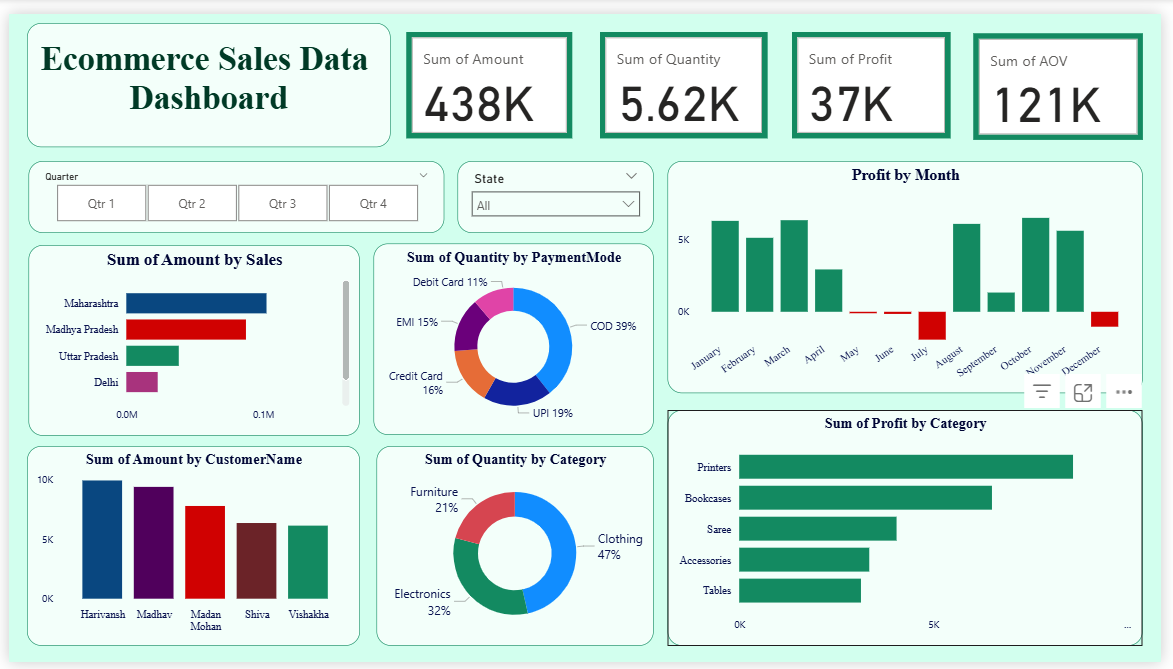

The dashboard page shown, as its layout file describes it:
{"tool":"powerbi","page":{"name":"Page 1","canvas":[1280,720],"ordinal":0},"visuals":[{"type":"textbox","box":[20,10,404,138],"z":0},{"type":"columnChart","title":"Profit by Month","fields":{"Y":["Details.Profit"],"Category":["Orders.Order Date.Variation.Date Hierarchy.Month"]},"box":[732,164,528,258],"z":1000},{"type":"barChart","title":"Sum of Profit by Category","fields":{"Y":["Details.Profit"],"Category":["Details.Sub-Category"]},"box":[732,440,528,262],"z":2000},{"type":"donutChart","title":"Sum of Quantity by Category","fields":{"Category":["Details.Category"],"Y":["Details.Quantity"]},"box":[408,480,308,222],"z":3000},{"type":"donutChart","title":"Sum of Quantity by PaymentMode","fields":{"Y":["Details.Quantity"],"Category":["Details.PaymentMode"]},"box":[405.7,255.7,311.4,212.9],"z":4000},{"type":"cardVisual","fields":{"Data":["Details.Amount"]},"box":[442,20,184,118],"z":5000},{"type":"cardVisual","fields":{"Data":["Details.Quantity"]},"box":[656,20,186,118],"z":6000},{"type":"cardVisual","fields":{"Data":["Details.Profit"]},"box":[870,20,176,118],"z":7000},{"type":"cardVisual","fields":{"Data":["Details.AOV"]},"box":[1072,22,188,118],"z":8000},{"type":"barChart","title":"Sum of Amount by Sales","fields":{"Category":["Orders.State"],"Y":["Details.Amount"]},"box":[22,256,368,212],"z":9000},{"type":"clusteredColumnChart","fields":{"Category":["Orders.CustomerName"],"Y":["Details.Amount"]},"box":[20,480,370,222],"z":10000},{"type":"slicer","fields":{"Values":["Orders.Order Date.Variation.Date Hierarchy.Quarter"]},"box":[22,164,462,80],"z":11000},{"type":"slicer","fields":{"Values":["Orders.State"]},"box":[498,164,218,80],"z":12000}]}

Visuals, with their boxes in screenshot pixels (x1, y1, x2, y2), scaled from the page's 1280x720 canvas onto the 1173x669 screenshot:
textbox: 18, 9, 389, 138
"Profit by Month" columnChart: 671, 152, 1155, 392
"Sum of Profit by Category" barChart: 671, 409, 1155, 652
"Sum of Quantity by Category" donutChart: 374, 446, 656, 652
"Sum of Quantity by PaymentMode" donutChart: 372, 238, 657, 435
cardVisual - Details.Amount: 405, 19, 574, 128
cardVisual - Details.Quantity: 601, 19, 772, 128
cardVisual - Details.Profit: 797, 19, 959, 128
cardVisual - Details.AOV: 982, 20, 1155, 130
"Sum of Amount by Sales" barChart: 20, 238, 357, 435
clusteredColumnChart - Orders.CustomerName x Details.Amount: 18, 446, 357, 652
slicer - Orders.Order Date.Variation.Date Hierarchy.Quarter: 20, 152, 444, 227
slicer - Orders.State: 456, 152, 656, 227
